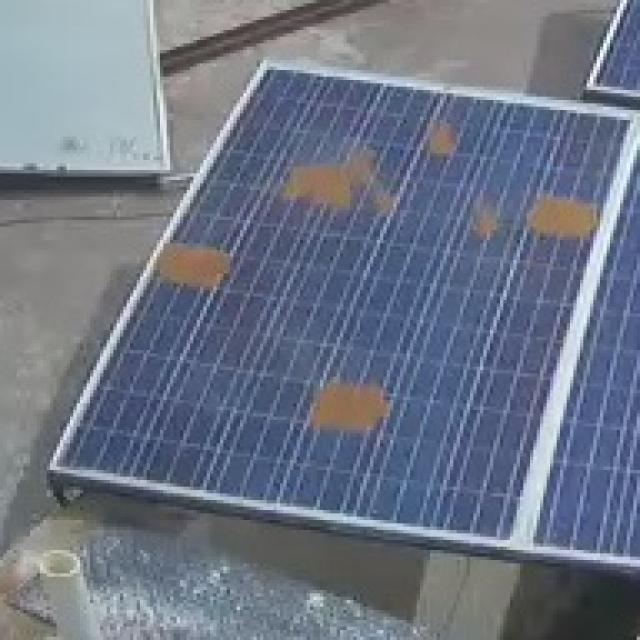Anomaly Solar Panel: (52, 62, 636, 542)
Surface Contaminant: (287, 143, 396, 221), (305, 372, 396, 441), (526, 181, 600, 243), (158, 244, 238, 295), (464, 203, 504, 241), (429, 118, 460, 161)
